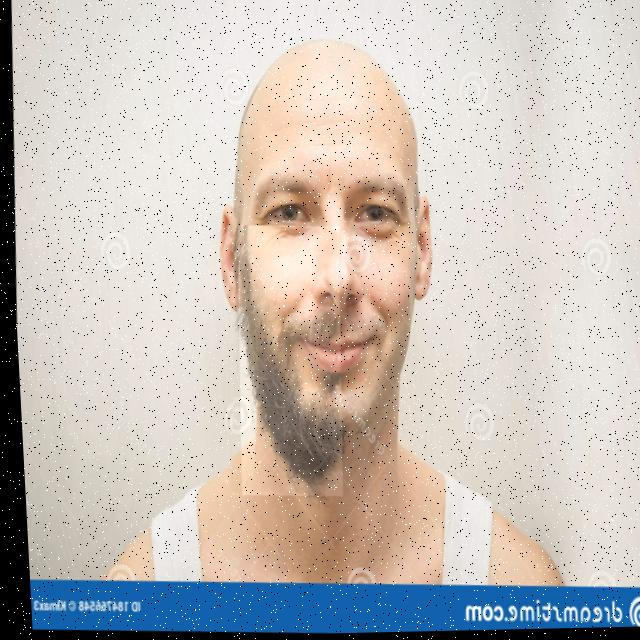beard: (235, 227, 336, 496)
